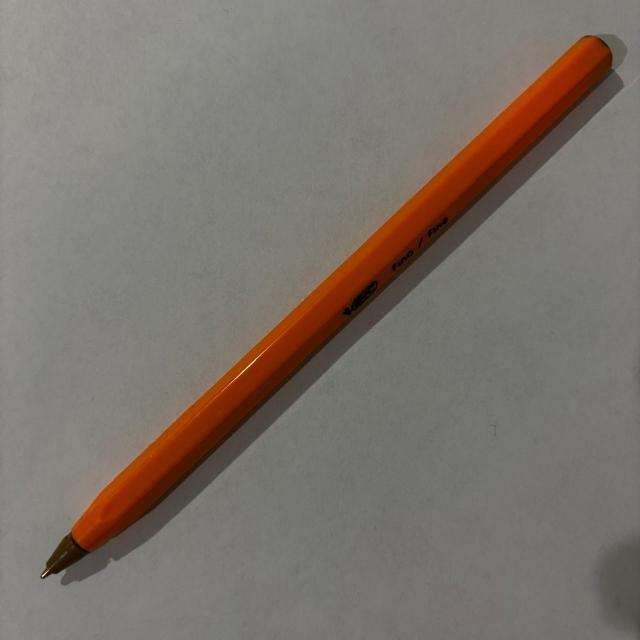pencil: (40, 34, 613, 578)
